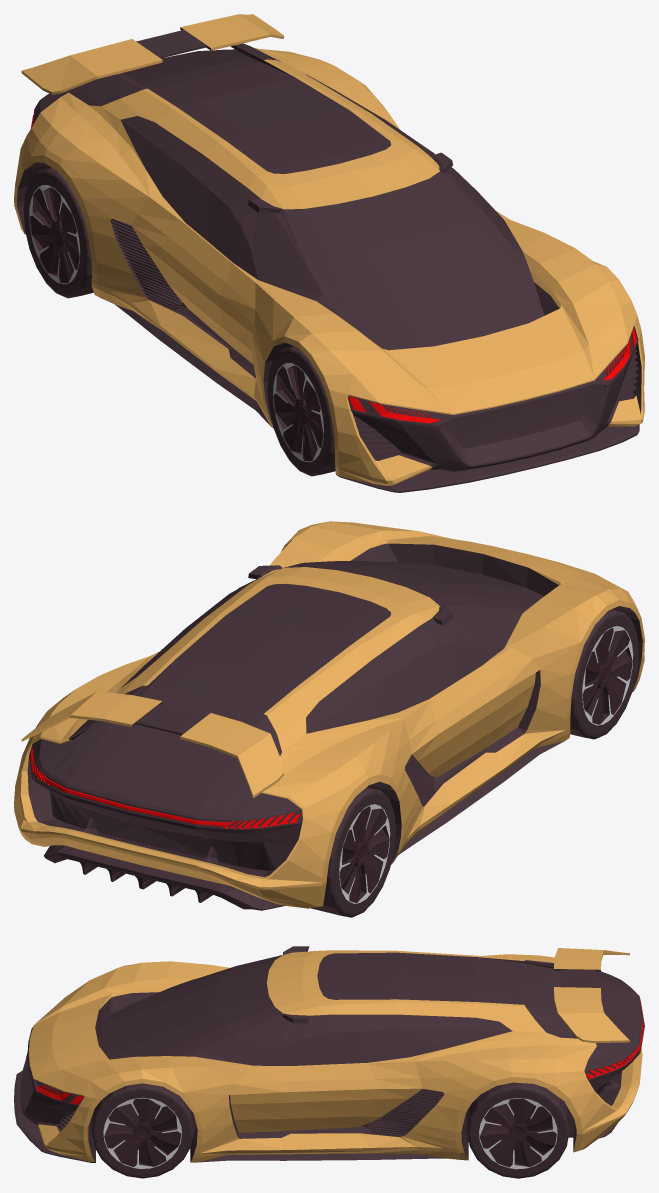
File: Car2.glb
3 renders of one model, top to bottom at view 1: azimuth 30°, elevation 25°; view 2: azimuth 150°, elevation 25°; view 3: azimuth 270°, elevation 25°, orthographic. The views are drawn at different scales.
Visible parts, largest first — view 1: car 5.001, car 5.004, car 5.002, car 5.003, car 5.1663; view 2: car 5.001, car 5.004, car 5.002, car 5.1663, car 5.003; view 3: car 5.004, car 5.001, car 5.002, car 5.003, car 5.1663.
Part boxes in pixels (left/top/right/bottom): car 5.001: left=17, top=27, right=641, bottom=492; car 5.004: left=14, top=14, right=644, bottom=485; car 5.002: left=29, top=187, right=323, bottom=461; car 5.003: left=29, top=185, right=323, bottom=462; car 5.1663: left=31, top=110, right=636, bottom=423; car 5.001: left=27, top=543, right=642, bottom=917; car 5.004: left=14, top=521, right=644, bottom=908; car 5.002: left=339, top=628, right=632, bottom=902; car 5.1663: left=29, top=748, right=300, bottom=828; car 5.003: left=339, top=626, right=633, bottom=903; car 5.004: left=29, top=948, right=642, bottom=1162; car 5.001: left=14, top=946, right=644, bottom=1178; car 5.002: left=104, top=1098, right=556, bottom=1167; car 5.003: left=103, top=1097, right=557, bottom=1169; car 5.1663: left=35, top=997, right=644, bottom=1104.
Bounding box in the file's own units: 62.62 × 36.52 × 142.
